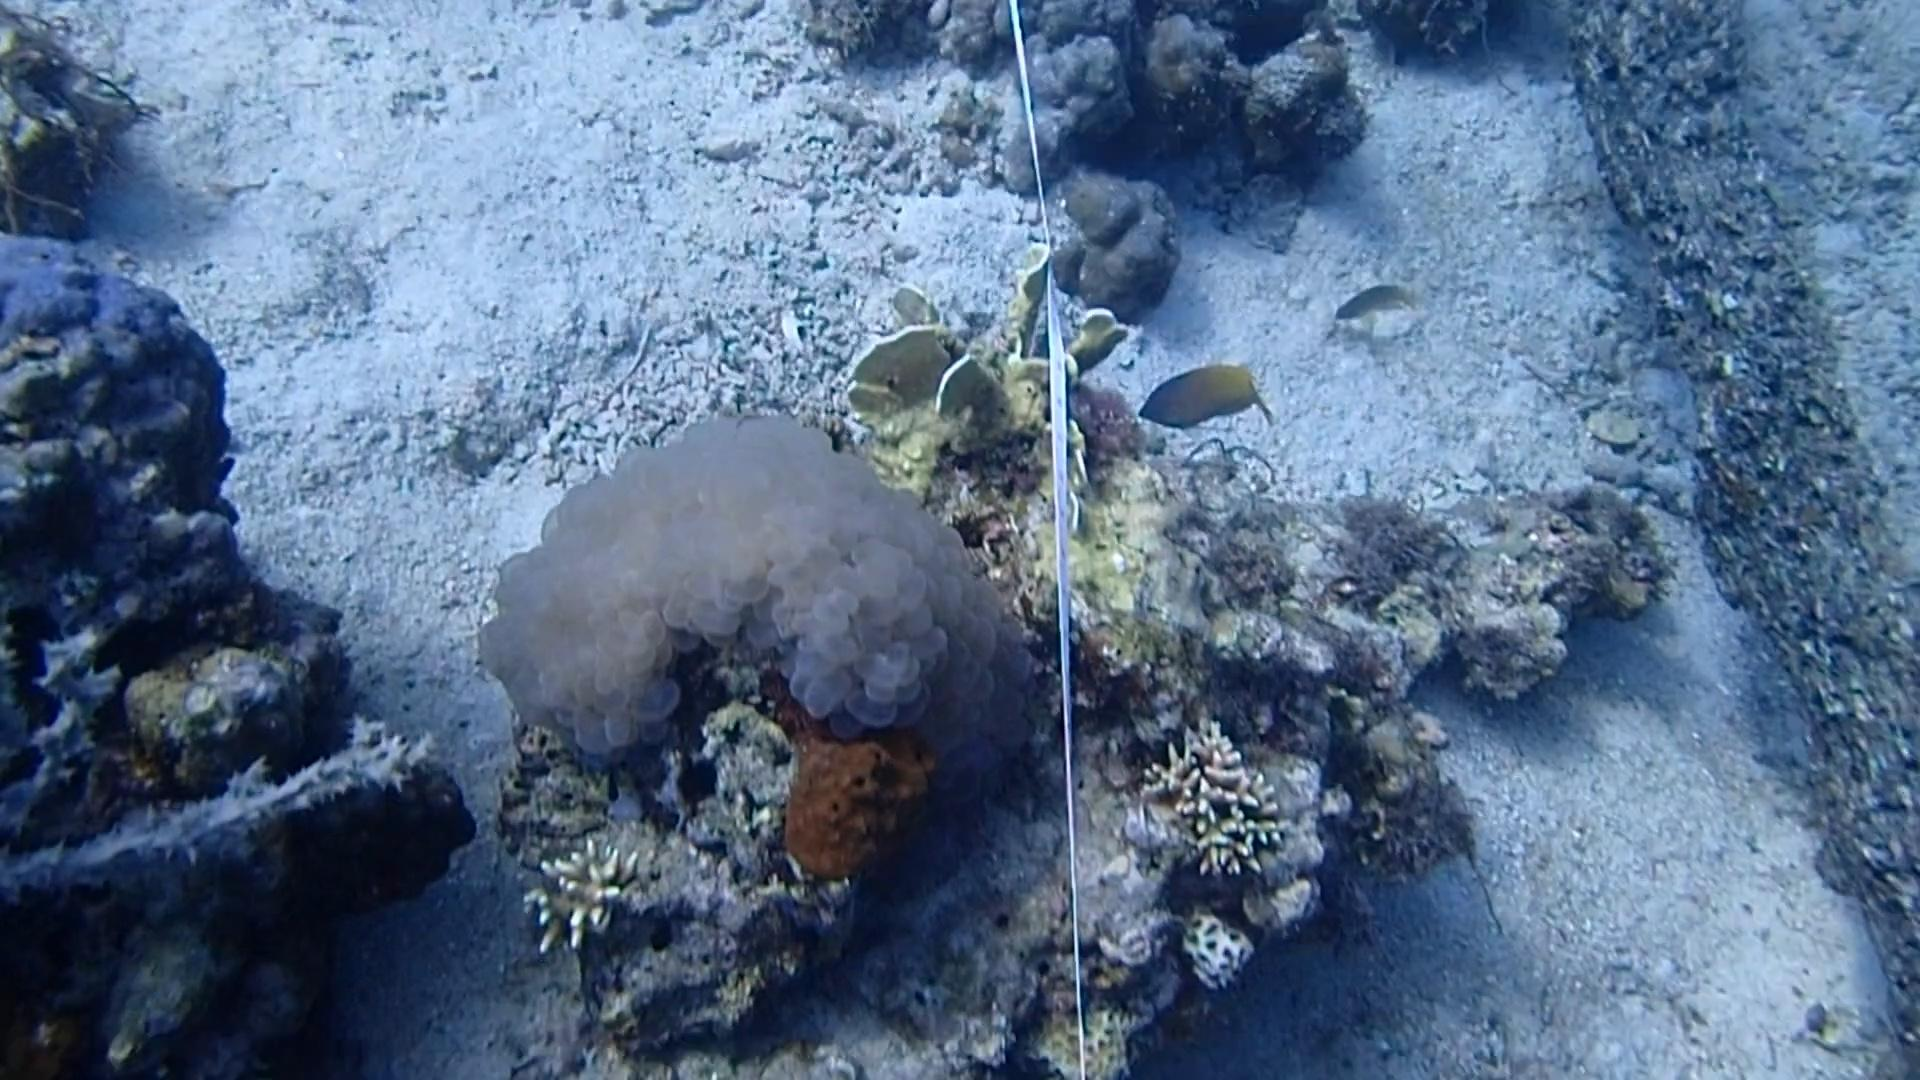Light Fish: (1321, 274, 1423, 342)
Yellow-Blue Fish: (1126, 352, 1259, 440)
